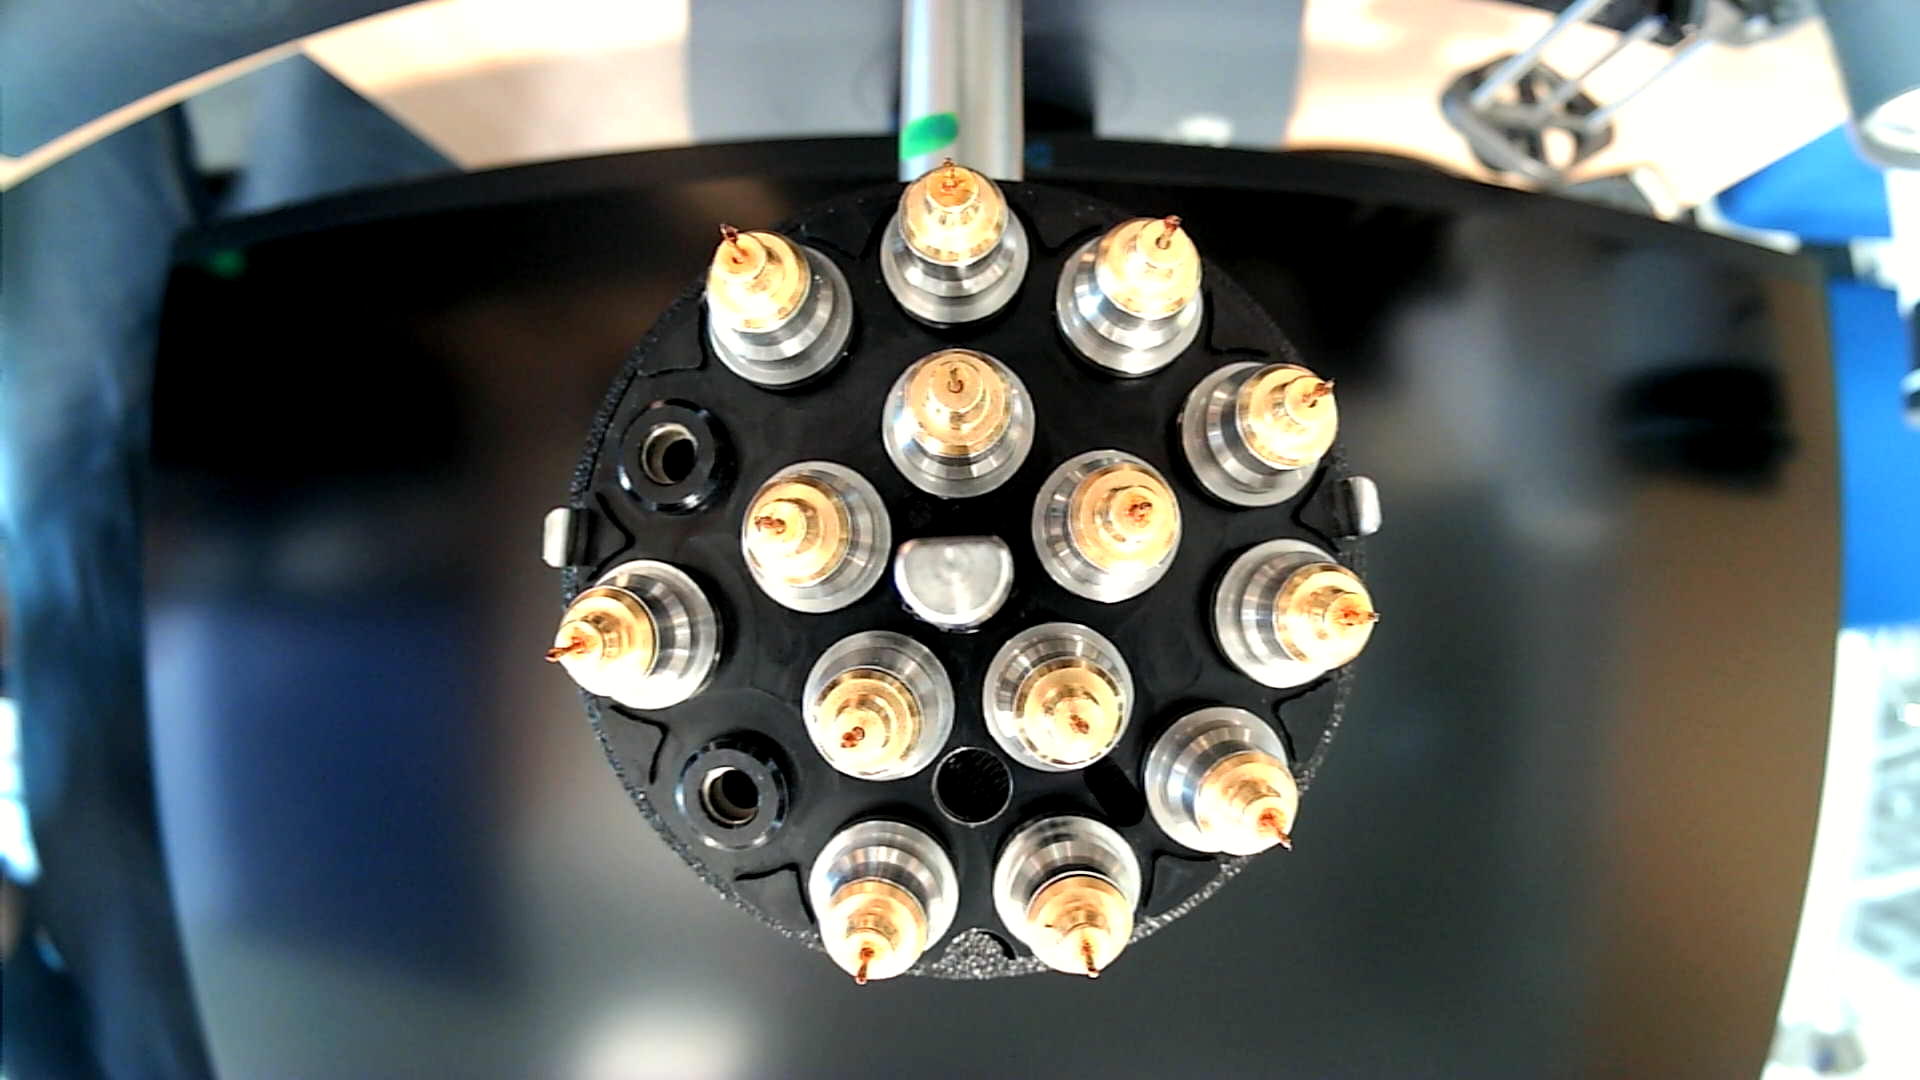empty: (671, 727, 800, 862), (615, 396, 735, 522)
hole: (932, 745, 1015, 831)
pin: (543, 555, 725, 715), (804, 812, 965, 990), (700, 218, 857, 396), (1207, 537, 1385, 692), (990, 808, 1145, 982), (878, 158, 1031, 334), (1054, 212, 1205, 384), (1141, 702, 1302, 858), (800, 626, 959, 785), (1179, 359, 1342, 512), (738, 458, 894, 617), (880, 347, 1038, 501), (1030, 448, 1184, 607), (980, 618, 1135, 774)
rod: (889, 531, 1021, 636)
